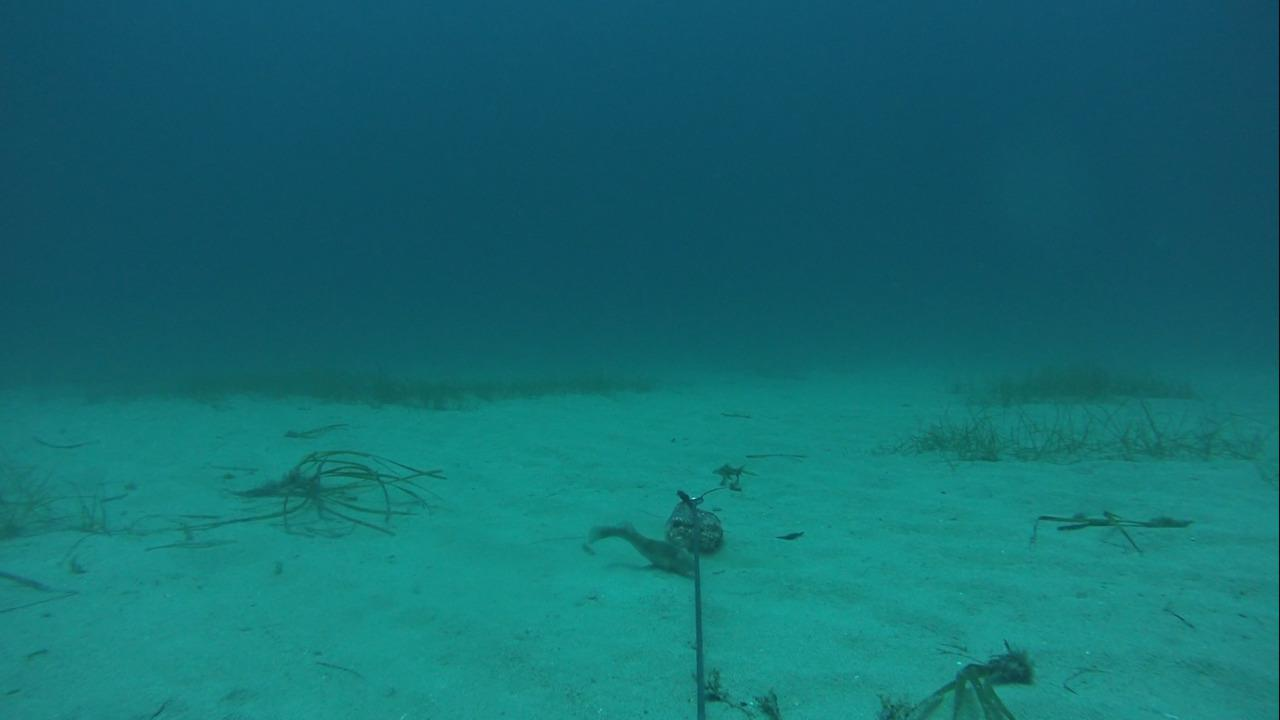raor: (580, 518, 699, 575)
